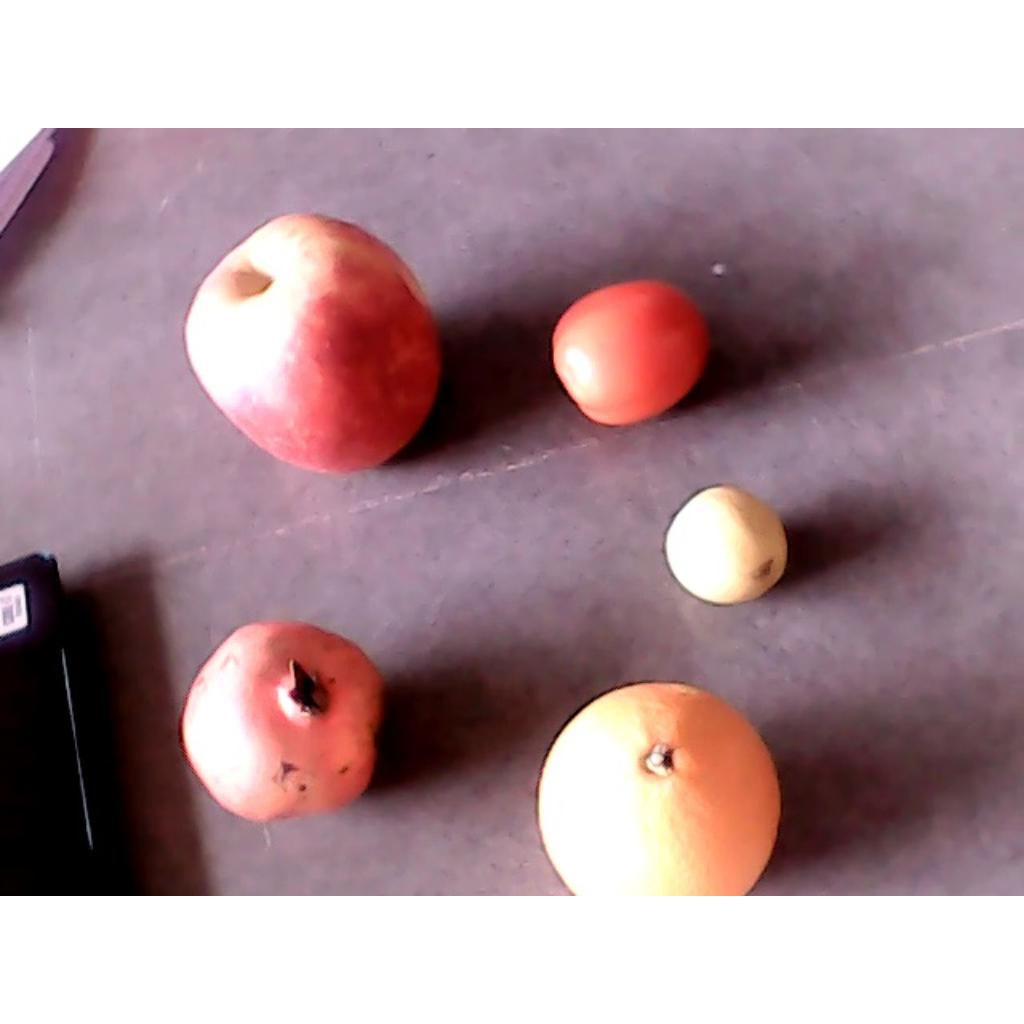apple: (188, 211, 440, 474)
lemon: (668, 481, 786, 606)
orange: (537, 683, 778, 894)
pomegranate: (182, 621, 388, 820)
tomato: (551, 279, 708, 426)
